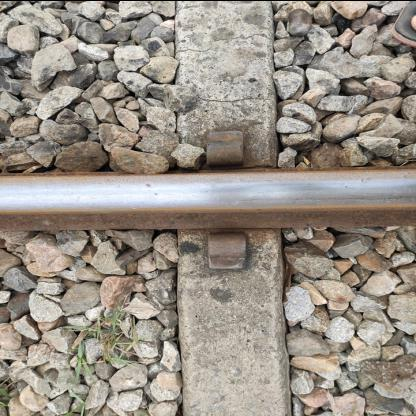Defective: (181, 217, 287, 297), (183, 113, 277, 177)
